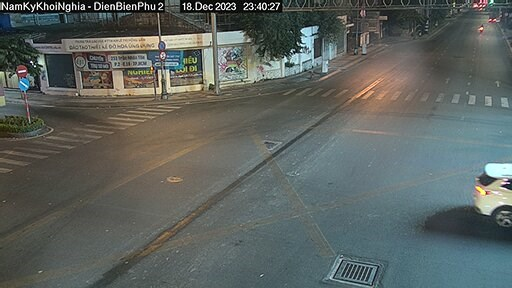car: (465, 149, 512, 236)
